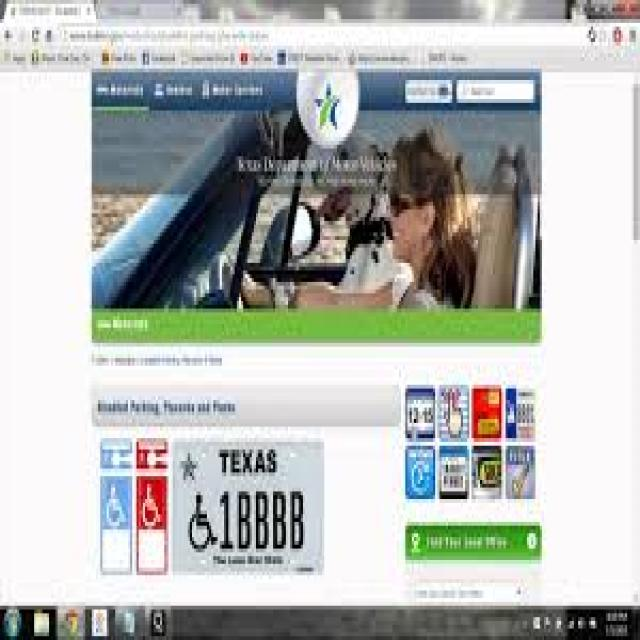car-handicap-placard: (187, 491, 218, 554), (142, 482, 164, 528), (106, 484, 126, 528)
